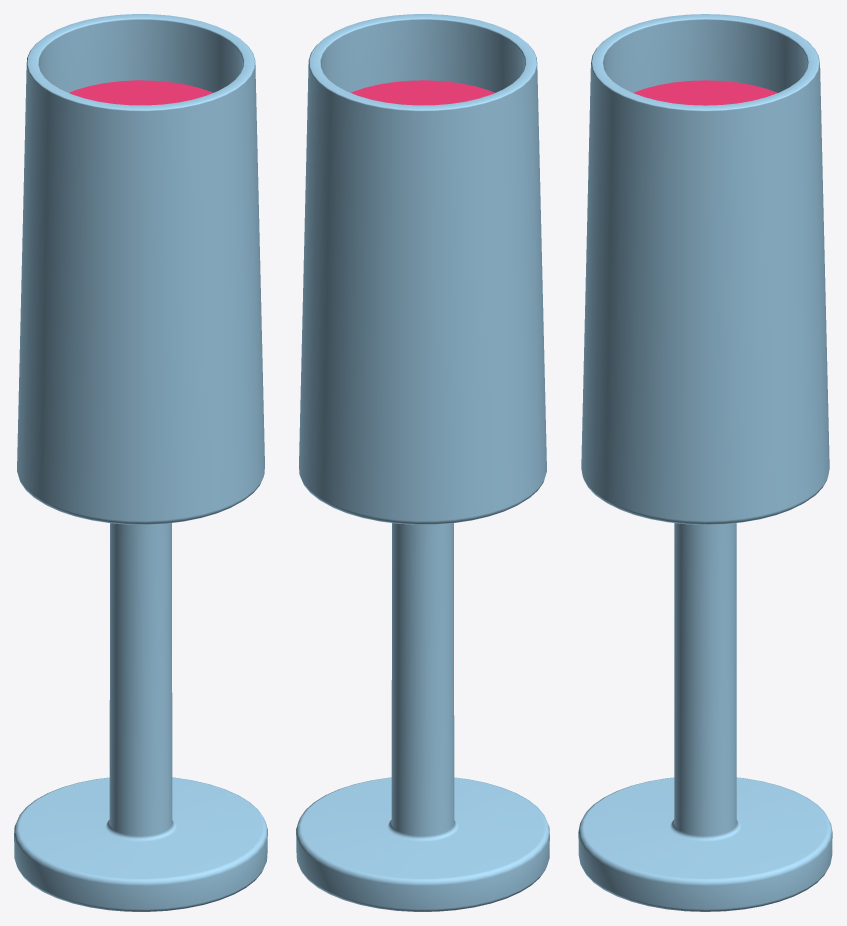
File: Store_20_Big_Glass_of_Wine_1.glb
3 renders of one model, left to right at view 1: azimuth 30°, elevation 25°; view 2: azimuth 150°, elevation 25°; view 3: azimuth 270°, elevation 25°, orthographic.
Visible parts, largest first — view 1: Store_20_Big_Glass_of_Wine_1; view 2: Store_20_Big_Glass_of_Wine_1; view 3: Store_20_Big_Glass_of_Wine_1.
Part boxes in pixels (box(x1,y1,x2,y2)): Store_20_Big_Glass_of_Wine_1: box(14, 14, 267, 911); Store_20_Big_Glass_of_Wine_1: box(296, 14, 549, 911); Store_20_Big_Glass_of_Wine_1: box(578, 14, 832, 911).
Bounding box in the file's own units: 0.6321 × 2.19 × 0.6321.
Materials: 1 (1 with a texture image).
